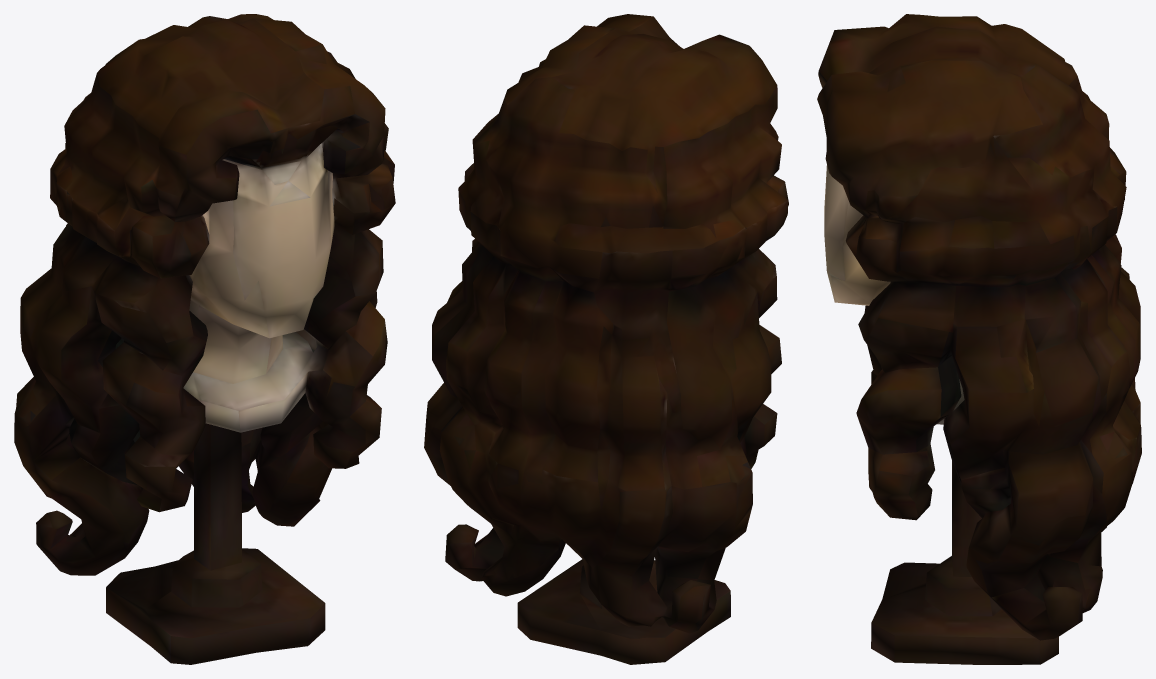
File: wig-louis14-v2.glb
3 views of the same model, side by side, from view 1: azimuth 30°, elevation 25°; view 2: azimuth 150°, elevation 25°; view 3: azimuth 270°, elevation 25° (orthographic). The views are drawn at different scales.
Visible parts, largest first — view 1: material.001; view 2: material.001; view 3: material.001.
Part boxes in pixels (x1,y1,x2,y2): material.001: (14, 14, 395, 664); material.001: (424, 14, 788, 664); material.001: (817, 14, 1141, 664).
Bounding box in the file's own units: 0.6503 × 1.13 × 0.5581.
1 material, 1 textured.
